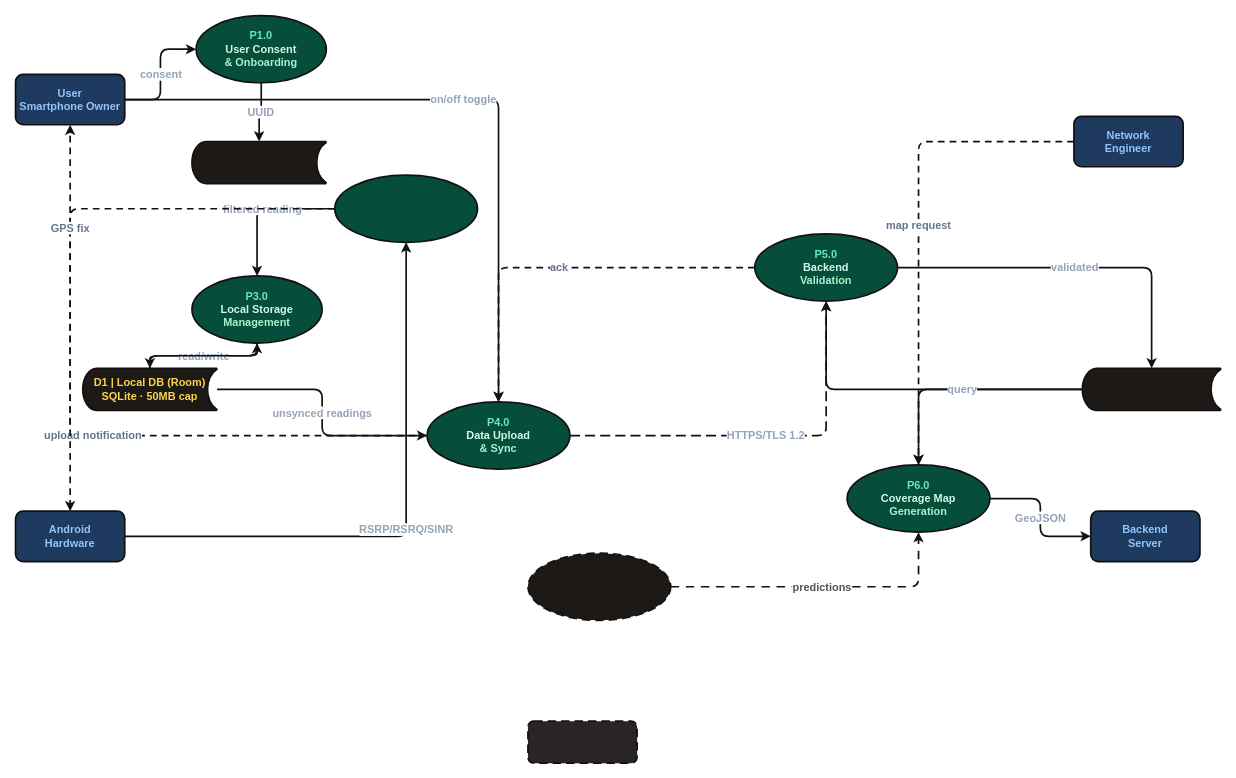
Some shapes in this 1236 by 778 pixel diagram are drawn without their labels. Here are the shapes that lost their labels. From the top down, the box of each, then its label:
(191, 140, 327, 184): D3 | Local Prefs Encrypted UUID store
(333, 174, 478, 243): P2.0 Signal Data Collection
(1081, 367, 1221, 411): D2 | PostgreSQL/PostGIS Geospatial DB
(527, 552, 671, 621): P7.0 ML Coverage Prediction
(527, 720, 638, 764): ML Analytics (Future Phase)
